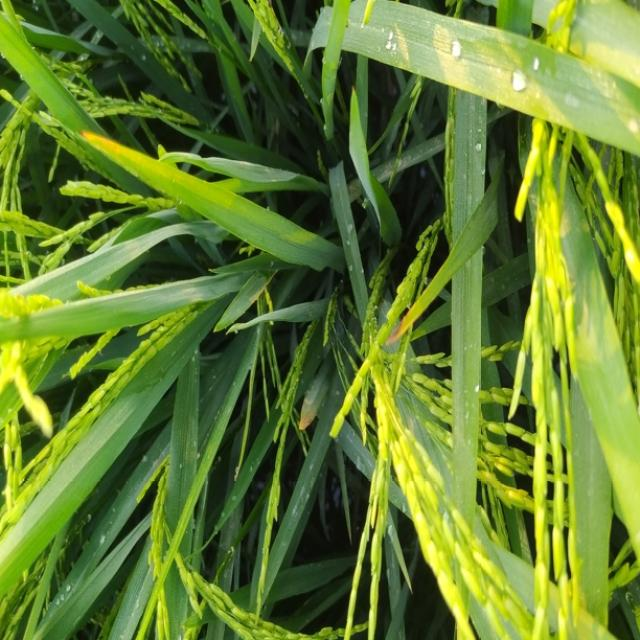Hawar Daun Bakteri: (382, 252, 452, 358)
